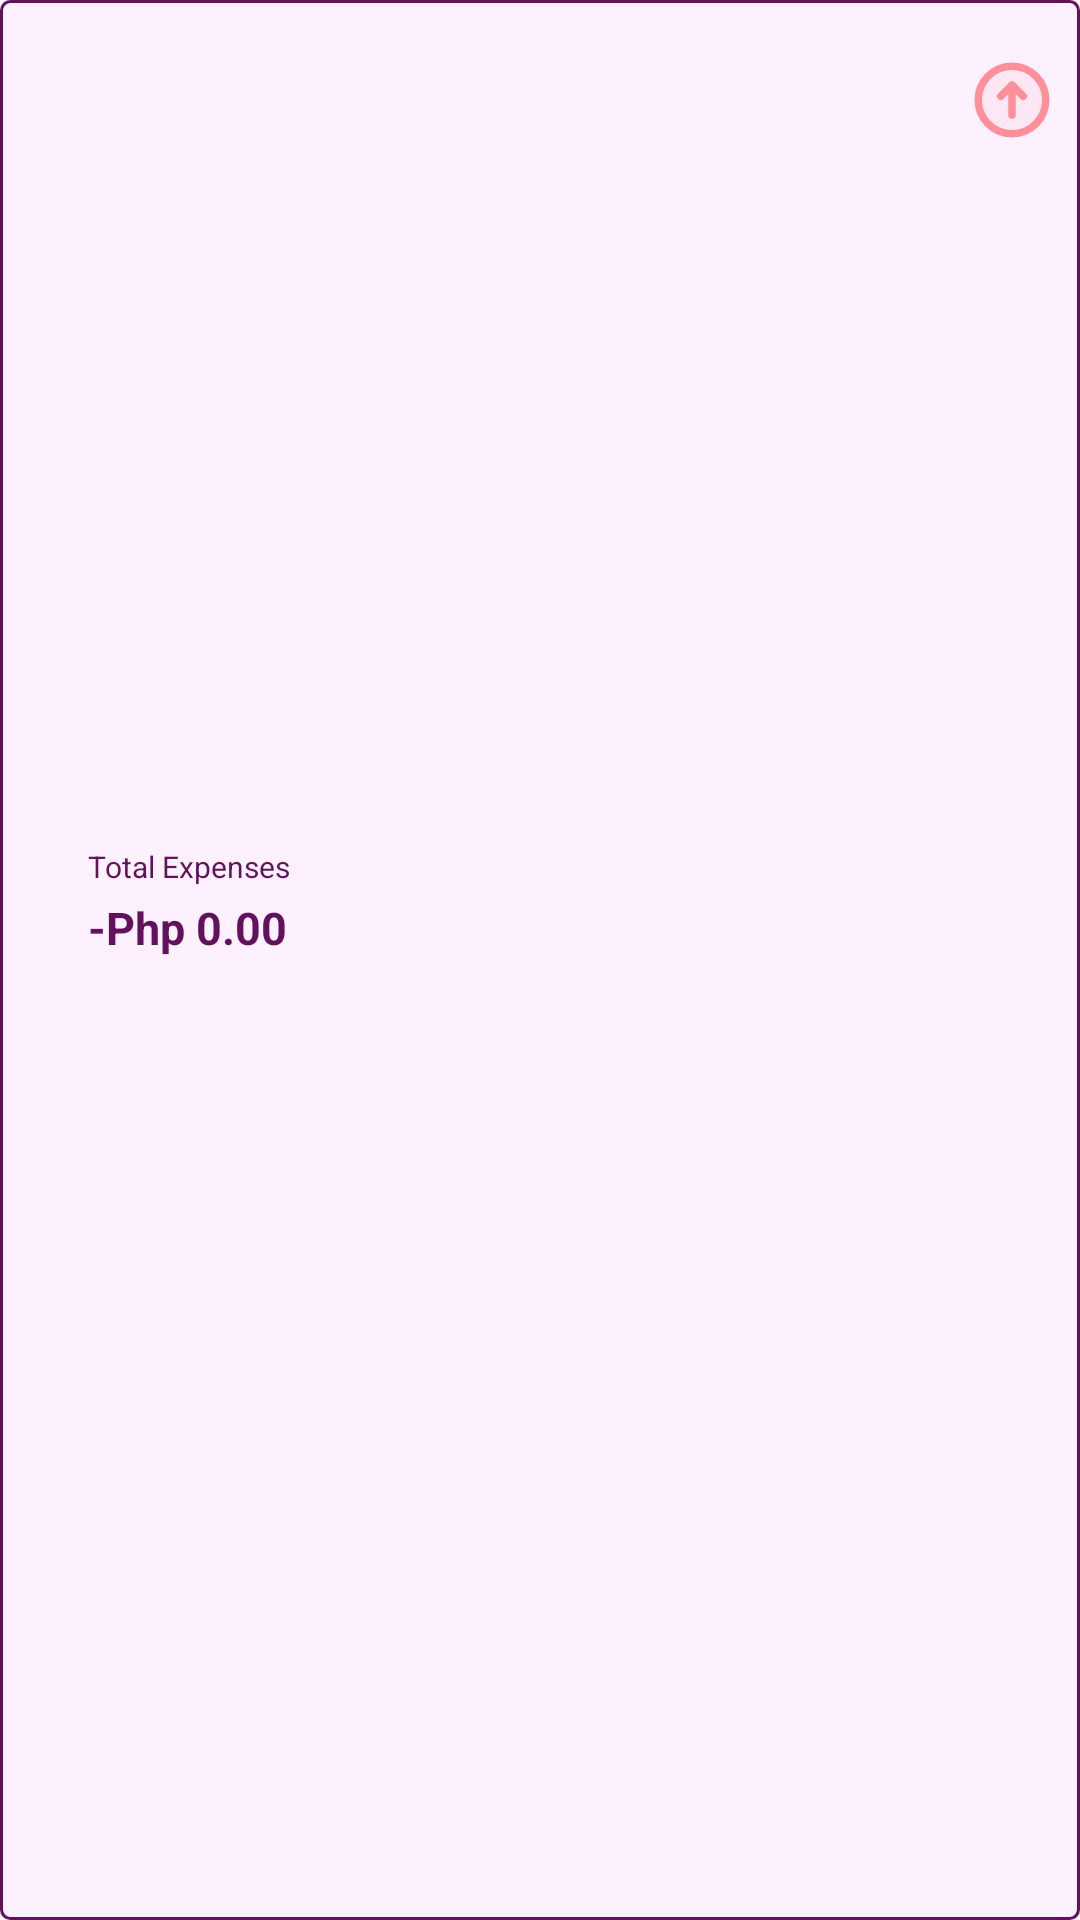

Screen size 1080*1920. Icon name, then its center in pixels as (x,y):
outgoing money: (1012,100)
